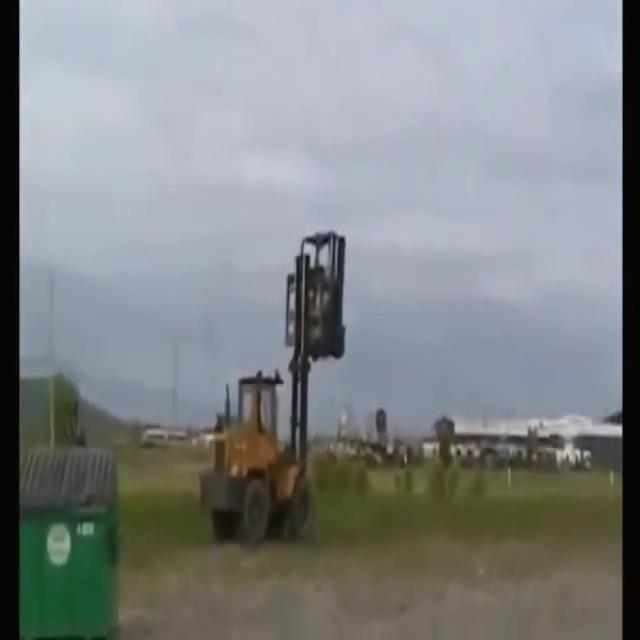forklift: (200, 226, 351, 552)
